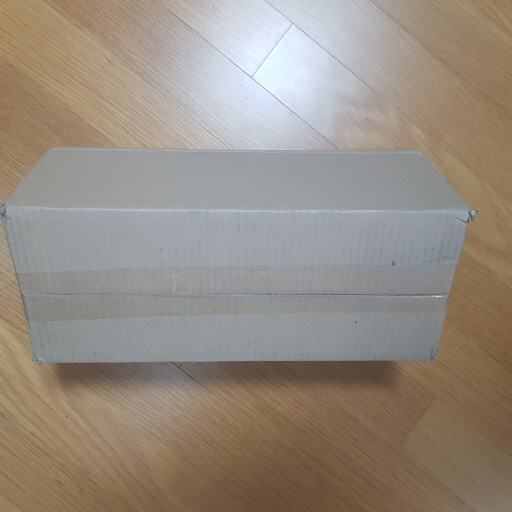Paper_0: (4, 142, 475, 368)
